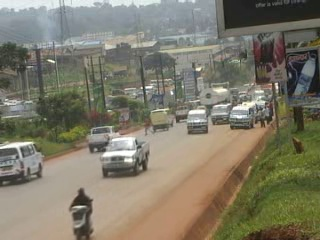Motorcycle: (67, 185, 100, 239)
